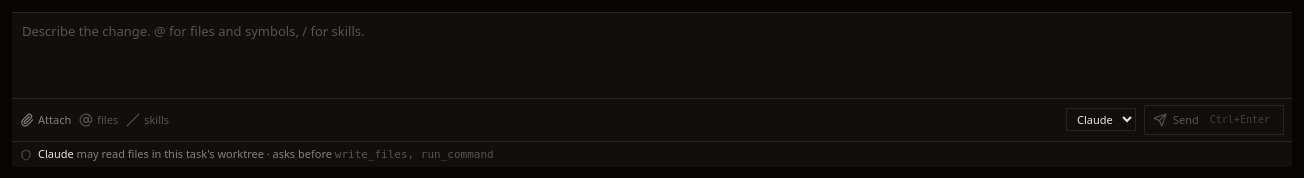
Scenario: Composer mentions and skills › completes an @ mention to its repository path
Click the dropdown named "Message": (652, 53) 12,13 -> 1292,92
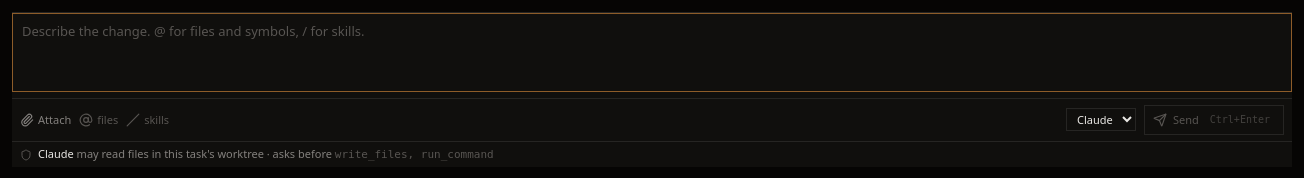
Type keys "look at @Compos"
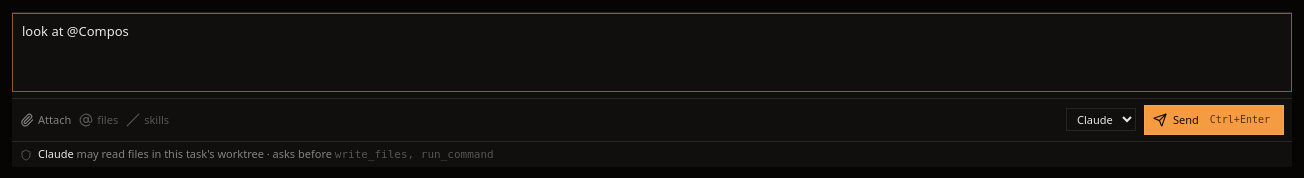
Press Enter
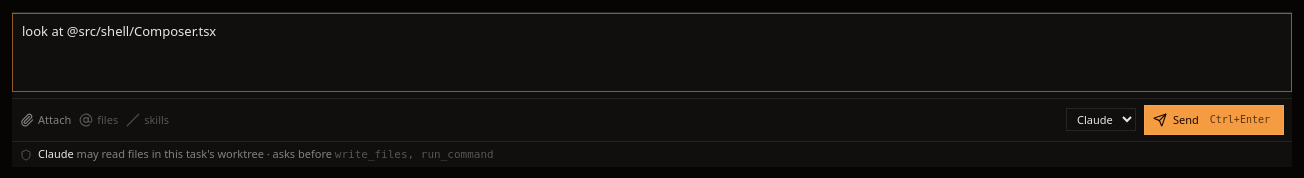
Check: the list "Files and symbols" is not shown
Check: the dropdown named "Message" holds "look at @src/shell/Composer.tsx ", box 12,13 -> 1292,92
